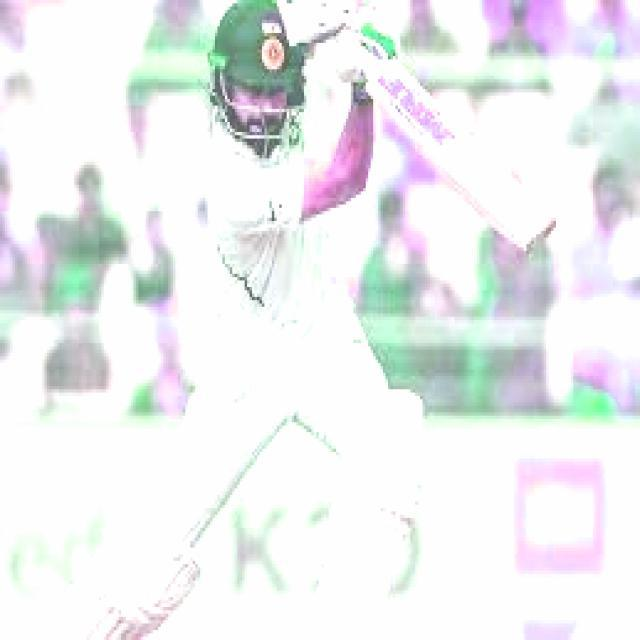bat: (351, 65, 564, 256)
toe: (522, 221, 556, 255)
